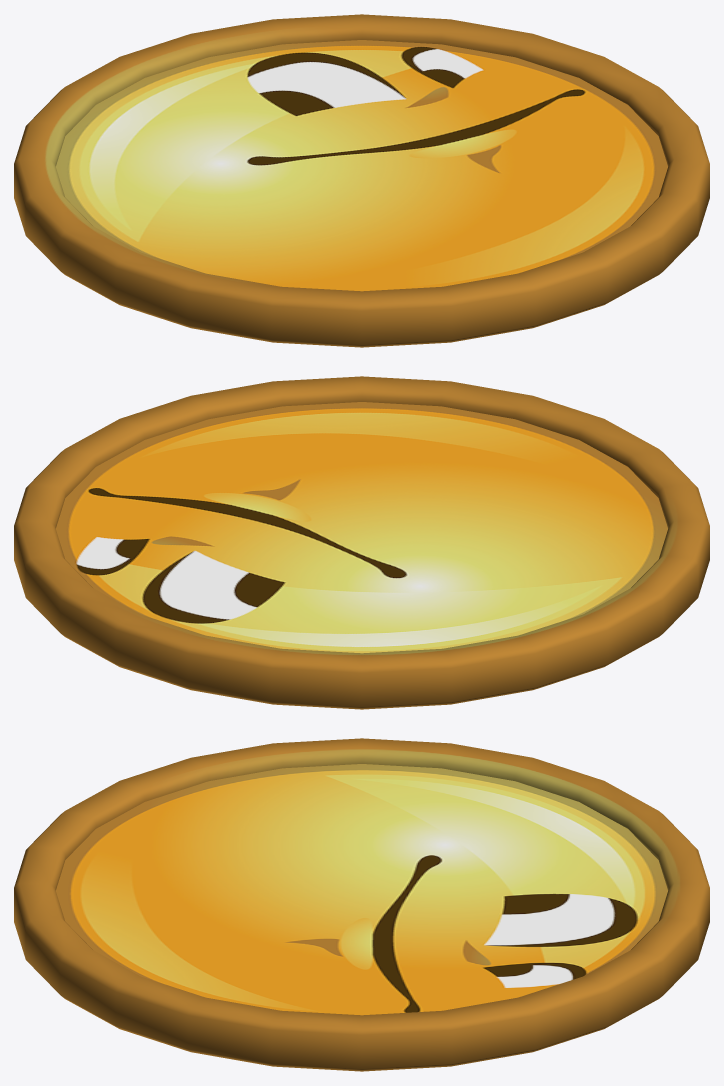
The model's file is Puck10.fbx.
3 views of the same model, one above another, from view 1: azimuth 30°, elevation 25°; view 2: azimuth 150°, elevation 25°; view 3: azimuth 270°, elevation 25° (orthographic).
Parts seen in each view (by area): view 1: Empty_Mesh; view 2: Empty_Mesh; view 3: Empty_Mesh.
Part boxes in pixels (<box>): Empty_Mesh: <box>14,14,709,347</box>; Empty_Mesh: <box>14,376,709,709</box>; Empty_Mesh: <box>14,738,709,1071</box>.
Size of the model in its own units: 7.8 by 0.5377 by 7.8.
